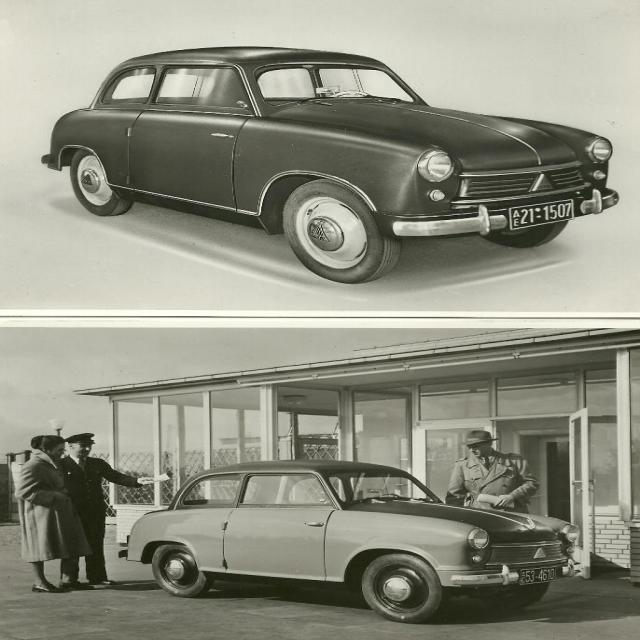other: (31, 47, 618, 281), (110, 456, 582, 620)
